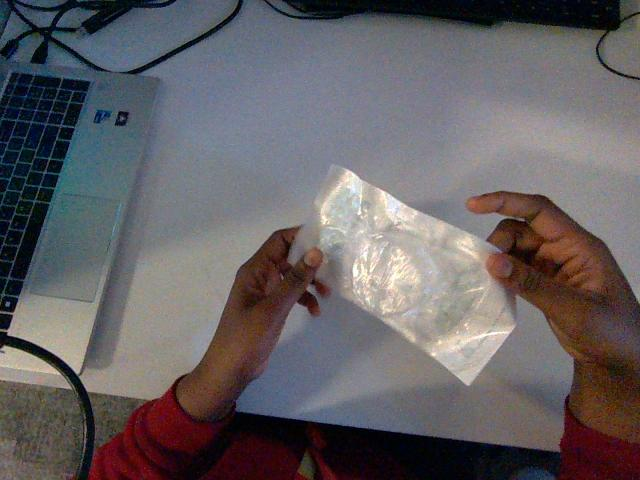gallipot: (289, 165, 515, 384)
